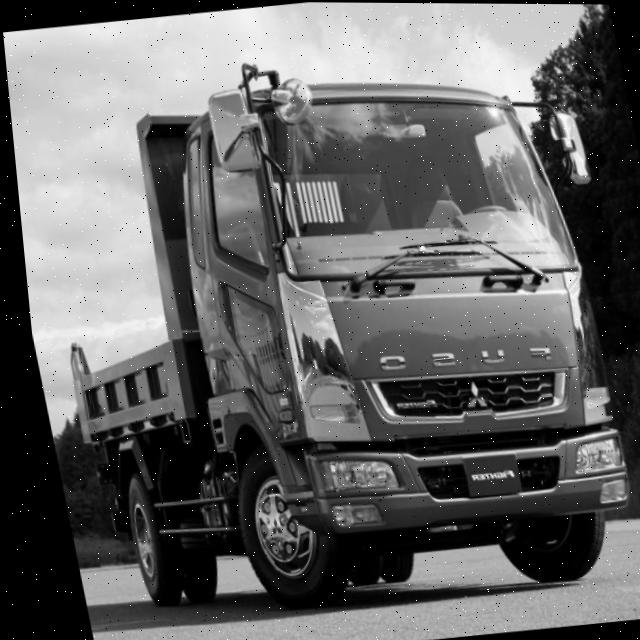truck: (89, 20, 640, 622)
